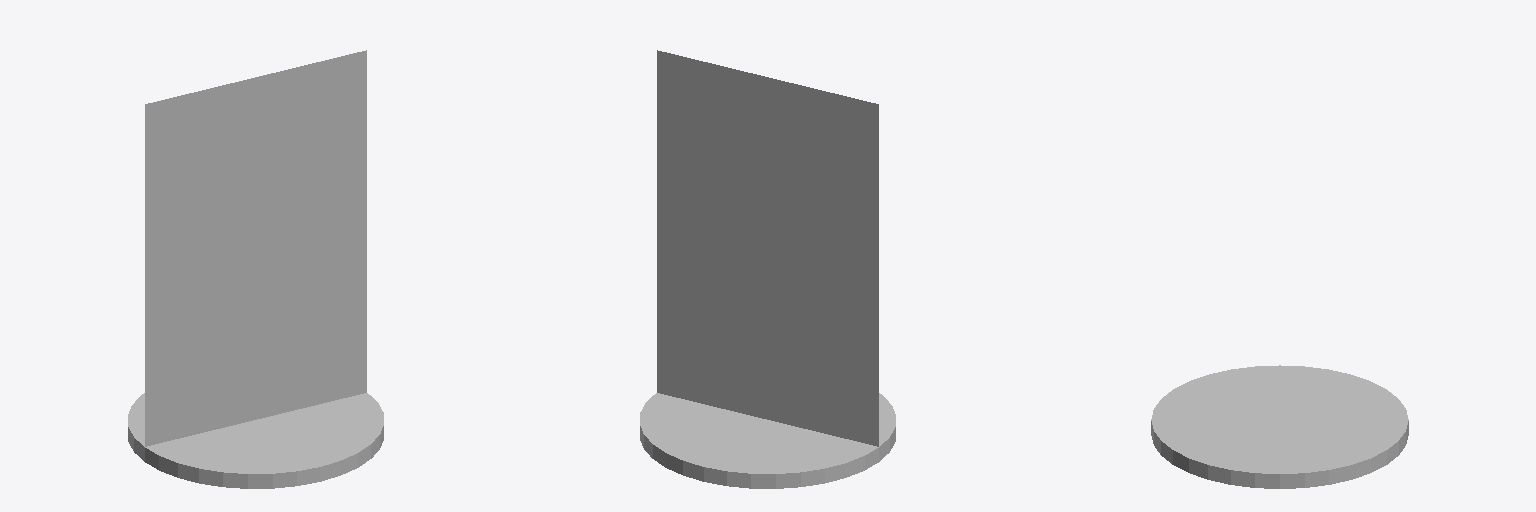
Rendered from TwoSidedModel.obj.
3 views of the same model, side by side, from view 1: azimuth 30°, elevation 25°; view 2: azimuth 150°, elevation 25°; view 3: azimuth 270°, elevation 25° (orthographic).
Visible parts, largest first — view 1: 02-Card-Front_CardFront, 03-Card-Back_CardBack, 01-Base_Base; view 2: 02-Card-Front_CardFront, 03-Card-Back_CardBack, 01-Base_Base; view 3: 01-Base_Base.
Boxes of the visible parts, box(x1,y1,x2,y2) form: 02-Card-Front_CardFront: box(145, 51, 366, 446); 03-Card-Back_CardBack: box(145, 50, 366, 446); 01-Base_Base: box(128, 393, 383, 488); 02-Card-Front_CardFront: box(657, 50, 878, 445); 03-Card-Back_CardBack: box(657, 51, 878, 446); 01-Base_Base: box(640, 393, 895, 488); 01-Base_Base: box(1151, 365, 1408, 488).
Bounding box in the file's own units: 0.94 × 1.44 × 0.94.